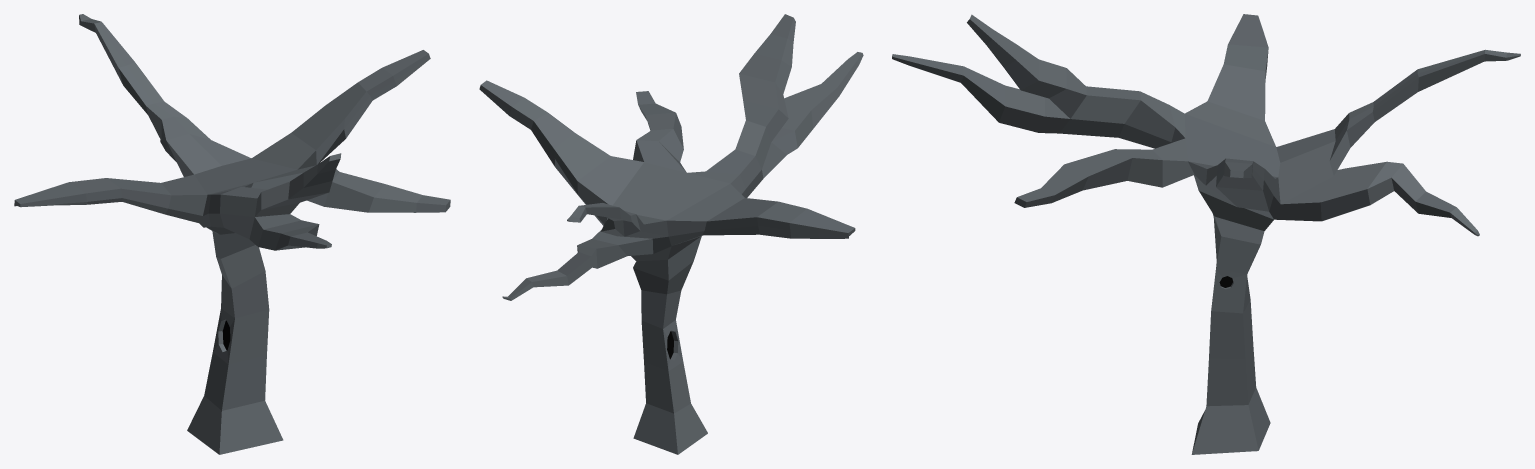
The model's file is Dead Tree_01.fbx.
3 renders of one model, left to right at view 1: azimuth 30°, elevation 25°; view 2: azimuth 150°, elevation 25°; view 3: azimuth 270°, elevation 25°, orthographic. The views are drawn at different scales.
Parts seen in each view (by area): view 1: Dead_tree_01; view 2: Dead_tree_01; view 3: Dead_tree_01.
Part boxes in pixels (<box>): Dead_tree_01: <box>14,14,450,454</box>; Dead_tree_01: <box>479,14,863,454</box>; Dead_tree_01: <box>892,14,1520,454</box>.
Size of the model in its own units: 1317 by 1156 by 1587.
